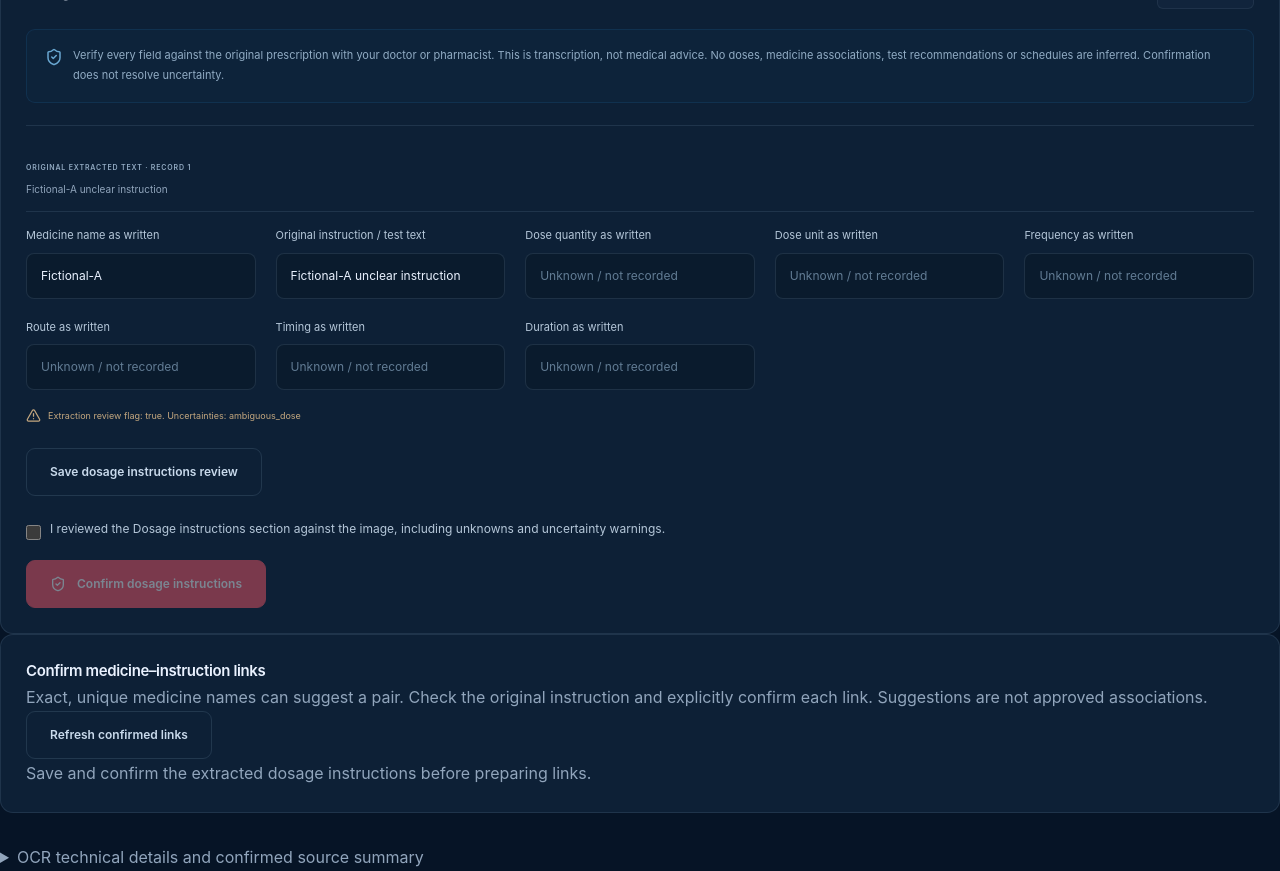
Test case: reloads association readiness after instruction confirmation even when the revision stays the same
(page scrolled)
Expected: the text "Save and confirm the extracted dosage instructions before preparing links." is shown, 26,763 -> 591,783
Click the checkbox.
click(34, 533)  # box 26,526 -> 41,540
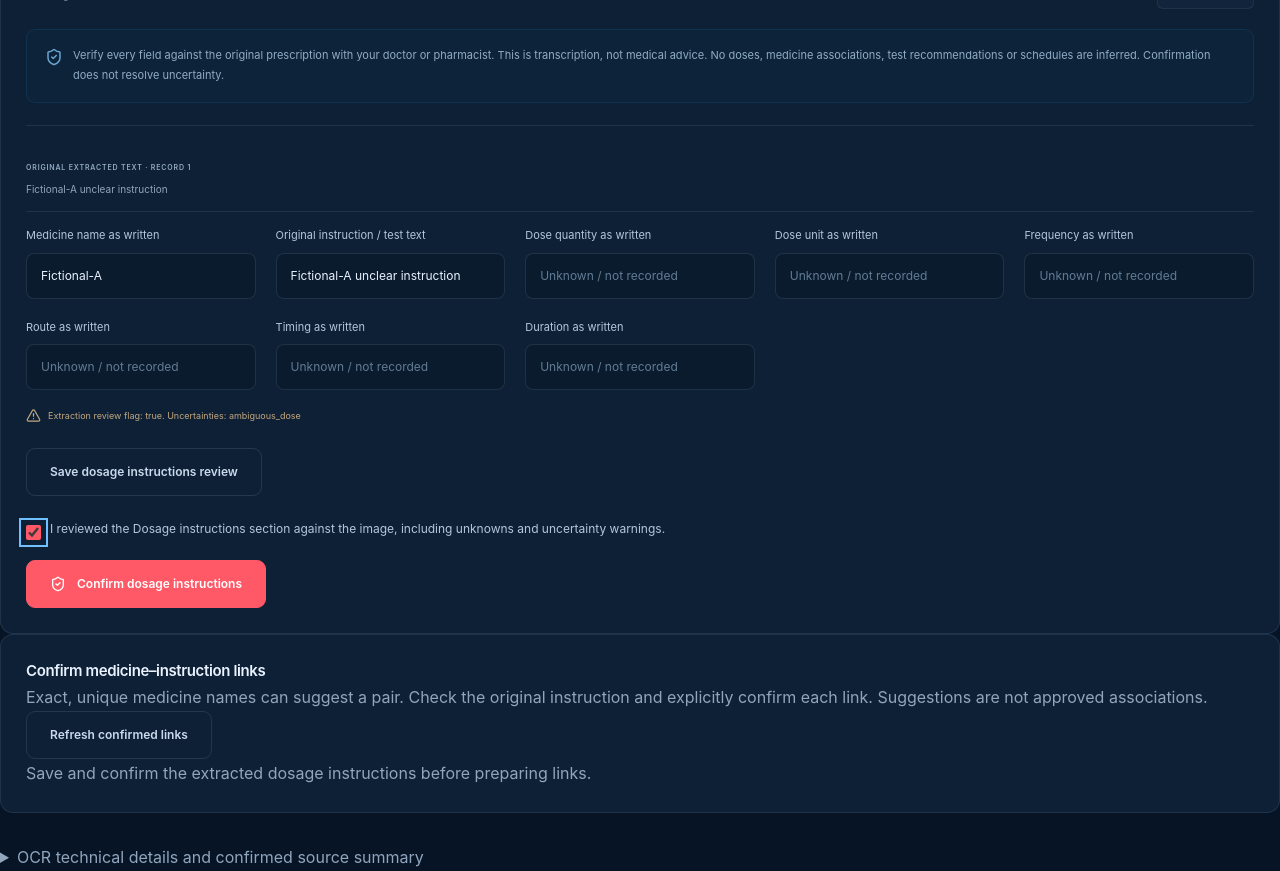
Click the button "Confirm dosage instructions".
click(146, 584)  # box 26,560 -> 266,608
(page scrolled)
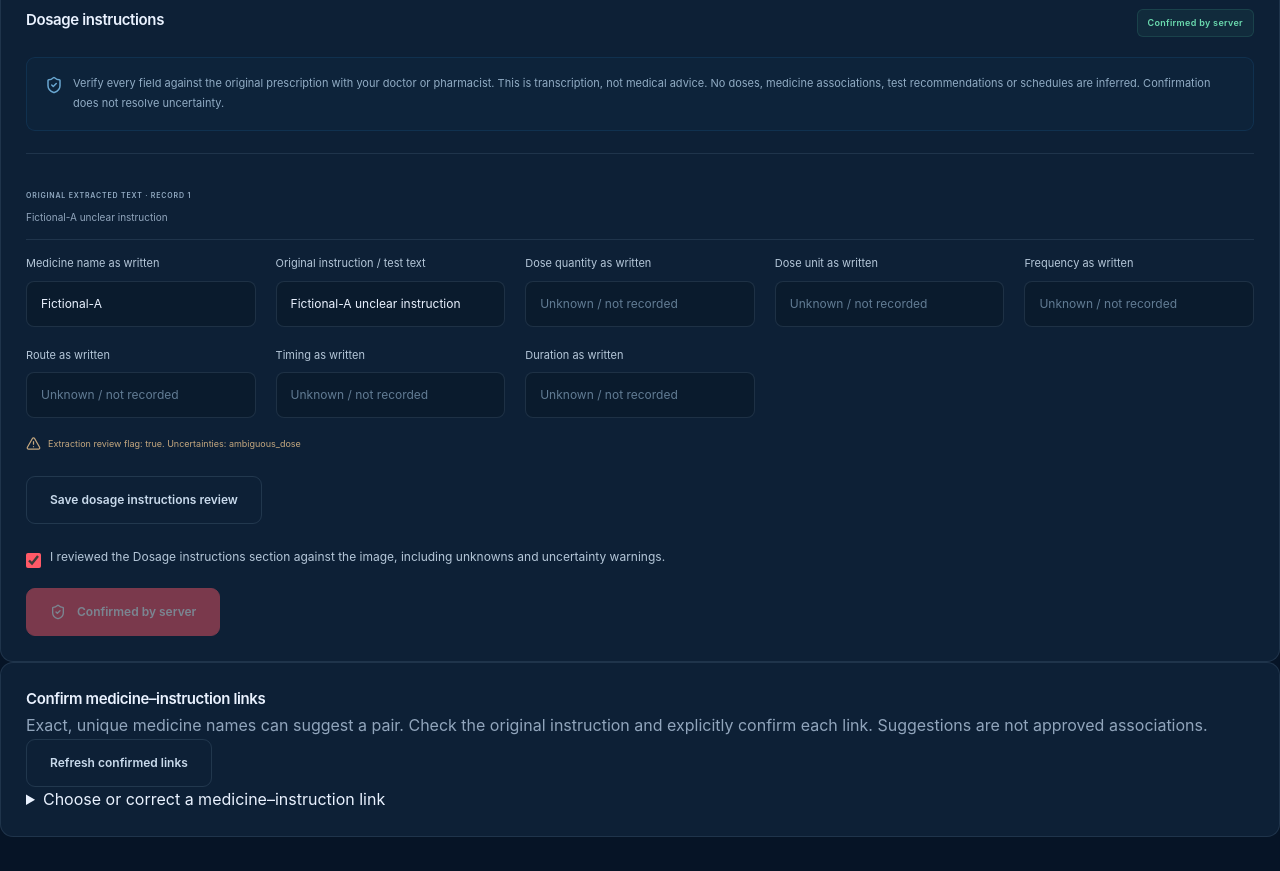
Now the heading "Choose or correct a medicine–instruction link" is shown, box 43,789 -> 385,809
